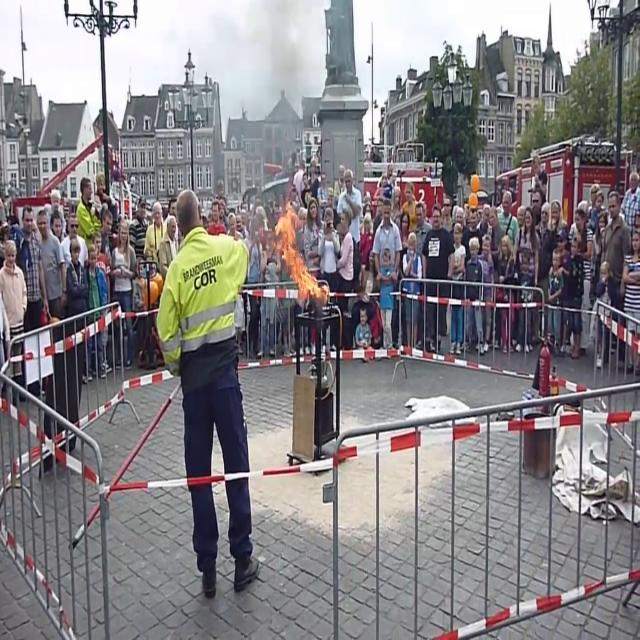Fire: (276, 210, 322, 302)
Smoke: (248, 24, 314, 190)
